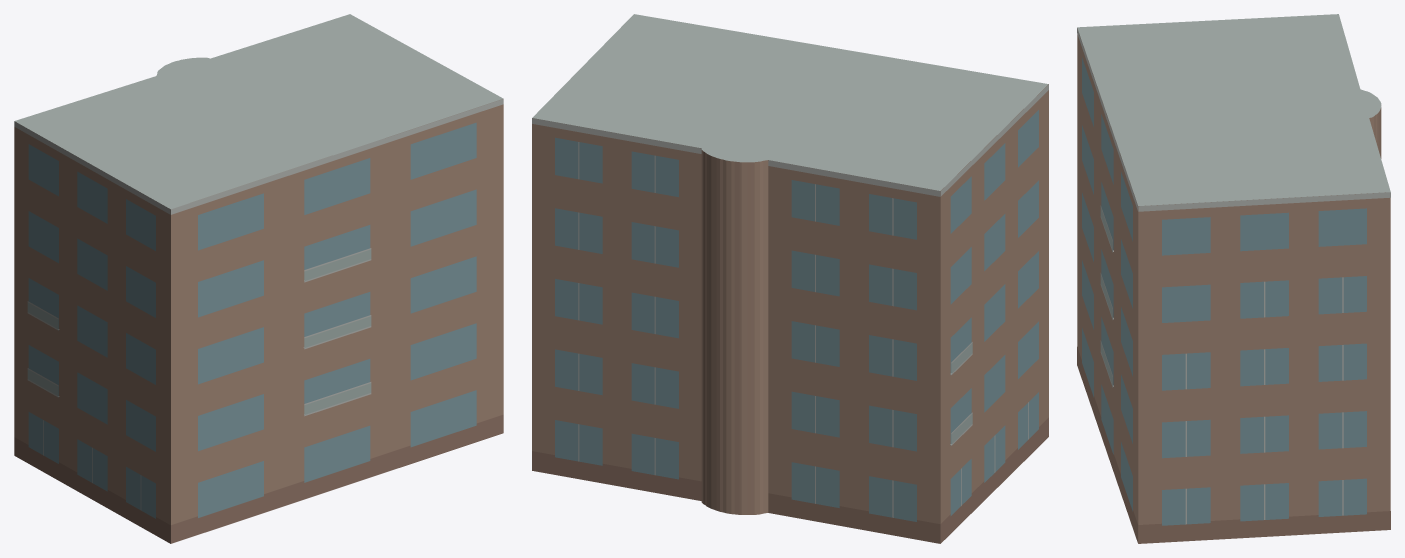
File: survey-upis-32930658.glb
The picture shows the model from 3 angles, left to right: view 1: azimuth 30°, elevation 25°; view 2: azimuth 150°, elevation 25°; view 3: azimuth 270°, elevation 25°; orthographic projection. The views are drawn at different scales.
Parts seen in each view (by area): view 1: survey-upis-32930658.tmp; view 2: survey-upis-32930658.tmp; view 3: survey-upis-32930658.tmp.
Part boxes in pixels (left/top/right/bottom): survey-upis-32930658.tmp: left=14, top=14, right=503, bottom=543; survey-upis-32930658.tmp: left=532, top=14, right=1048, bottom=543; survey-upis-32930658.tmp: left=1077, top=14, right=1390, bottom=543.
Bounding box in the file's own units: 17.82 × 14.6 × 12.3.
